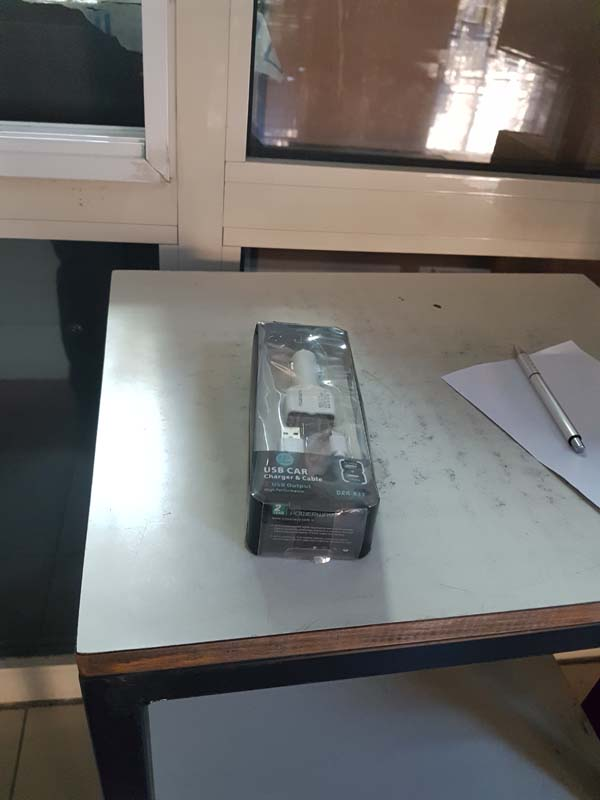usbcarcharger: (239, 315, 382, 576)
